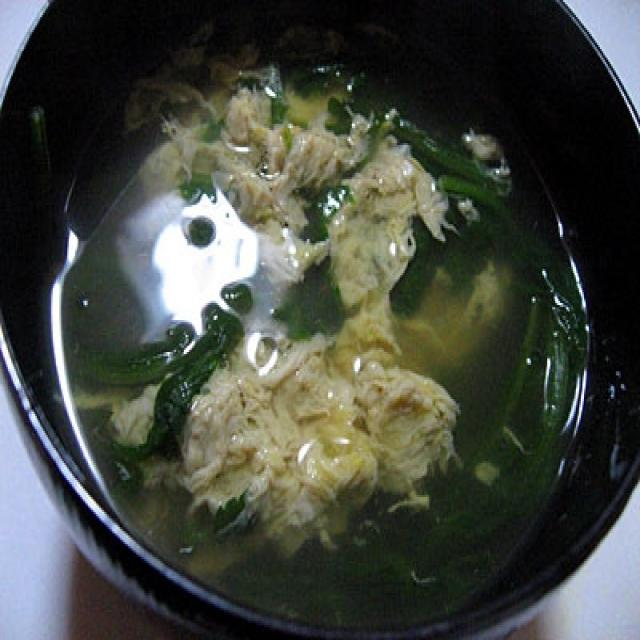汤锅炖物: (16, 21, 629, 623)
